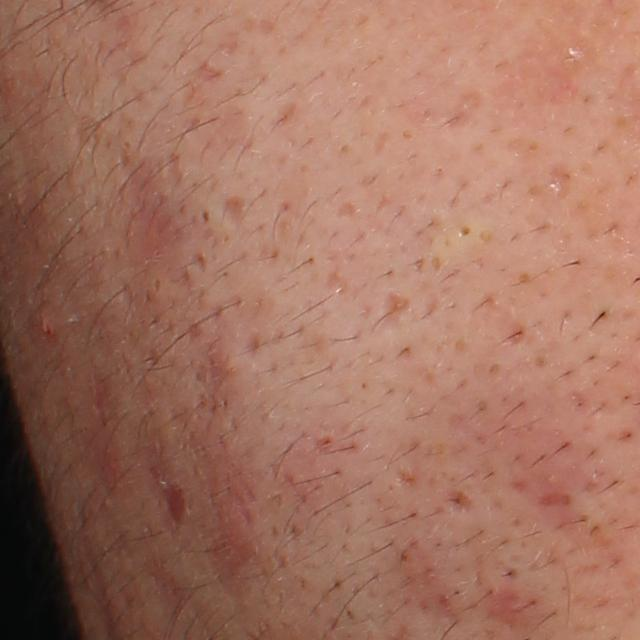atrophic_scar: (113, 158, 187, 271), (480, 585, 534, 630), (73, 109, 109, 154), (447, 87, 486, 127), (218, 192, 252, 229), (382, 290, 417, 325), (545, 163, 576, 201), (165, 483, 189, 529), (190, 55, 224, 87), (439, 488, 474, 516), (537, 491, 572, 508)
papule: (22, 306, 63, 345)
